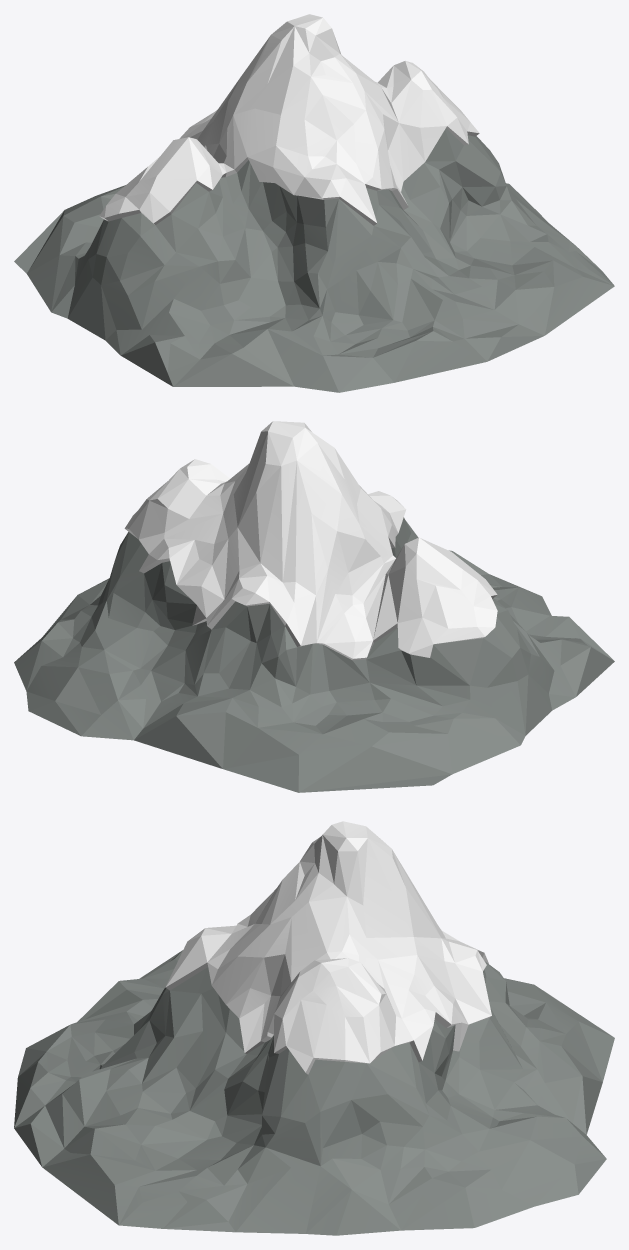
3 renders of one model, top to bottom at view 1: azimuth 30°, elevation 25°; view 2: azimuth 150°, elevation 25°; view 3: azimuth 270°, elevation 25°, orthographic. The views are drawn at different scales.
Parts seen in each view (by area): view 1: SM_Generic_Mountains_Snow_01_SM_Generic_Mountains_Snow_01_Po; view 2: SM_Generic_Mountains_Snow_01_SM_Generic_Mountains_Snow_01_Po; view 3: SM_Generic_Mountains_Snow_01_SM_Generic_Mountains_Snow_01_Po.
Boxes of the visible parts, x1,y1,x2,y2 form: SM_Generic_Mountains_Snow_01_SM_Generic_Mountains_Snow_01_Po: (14, 14, 614, 392); SM_Generic_Mountains_Snow_01_SM_Generic_Mountains_Snow_01_Po: (14, 421, 614, 792); SM_Generic_Mountains_Snow_01_SM_Generic_Mountains_Snow_01_Po: (14, 821, 614, 1235).
Size of the model in its own units: 20.77 by 10.31 by 20.1.
Materials: 1 (1 with a texture image).
